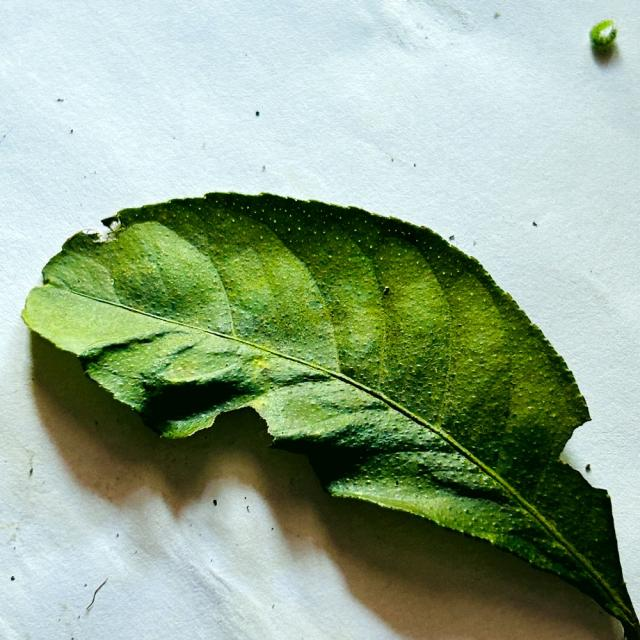Deficiency Leaf: (174, 405, 325, 489), (558, 405, 616, 501)
Lemon: (22, 193, 639, 632)
